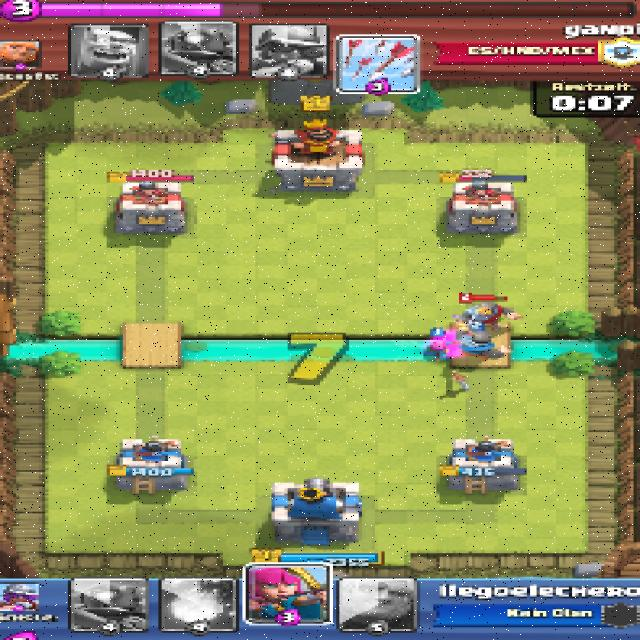Enemy-Knight: (453, 302, 521, 331)
Player-Archer: (420, 342, 450, 360)
Player-Knight: (450, 334, 509, 359)
